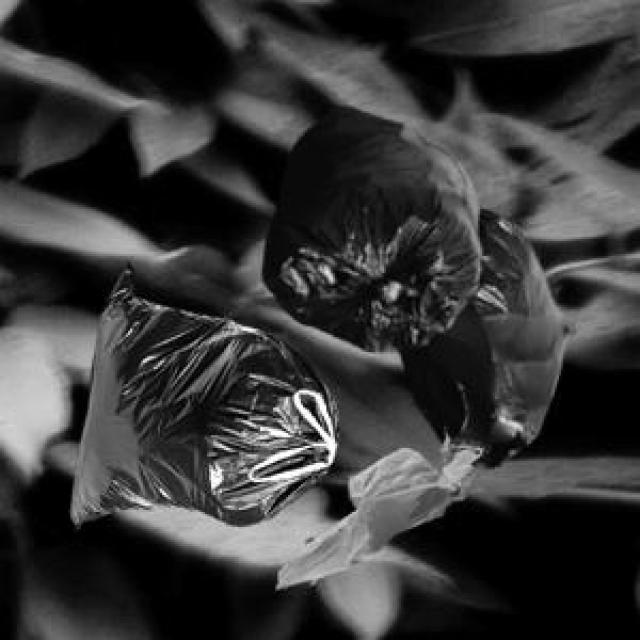miscellaneous trash: (258, 102, 565, 465), (66, 256, 335, 525)
